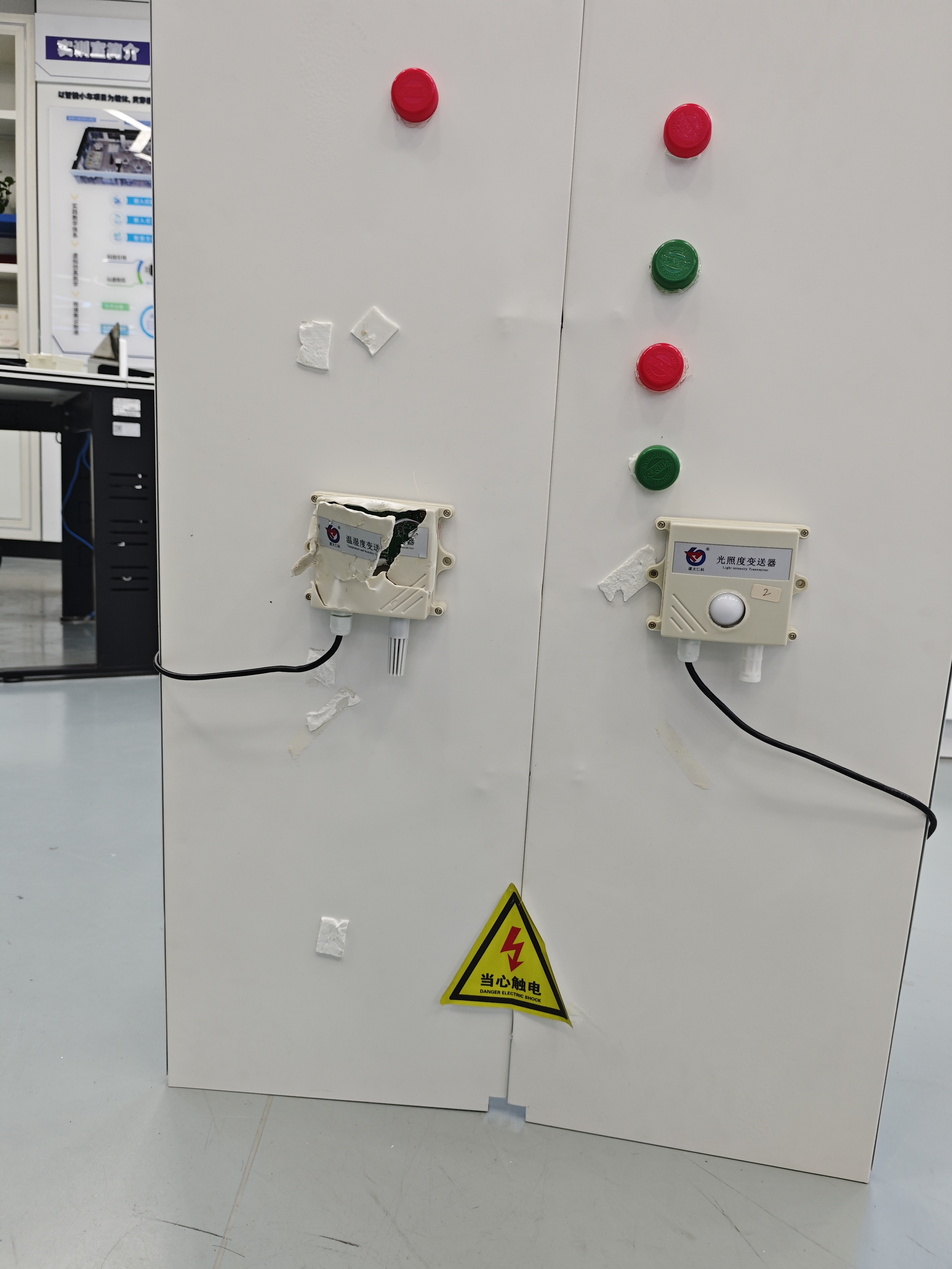red_warning: (619, 321, 720, 423), (636, 80, 729, 182), (368, 47, 455, 132)
sensor_damage: (267, 471, 481, 705)
